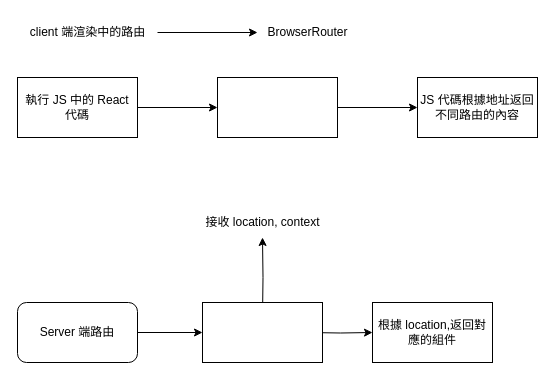
Image size: 555x380. Some labels were removed from this diagram. The centre of each missing label's shape, as x and y in pixels:
JS 代碼拿到瀏覽器上的地址: point 277,107
StaticRouter req.path: point 262,332
